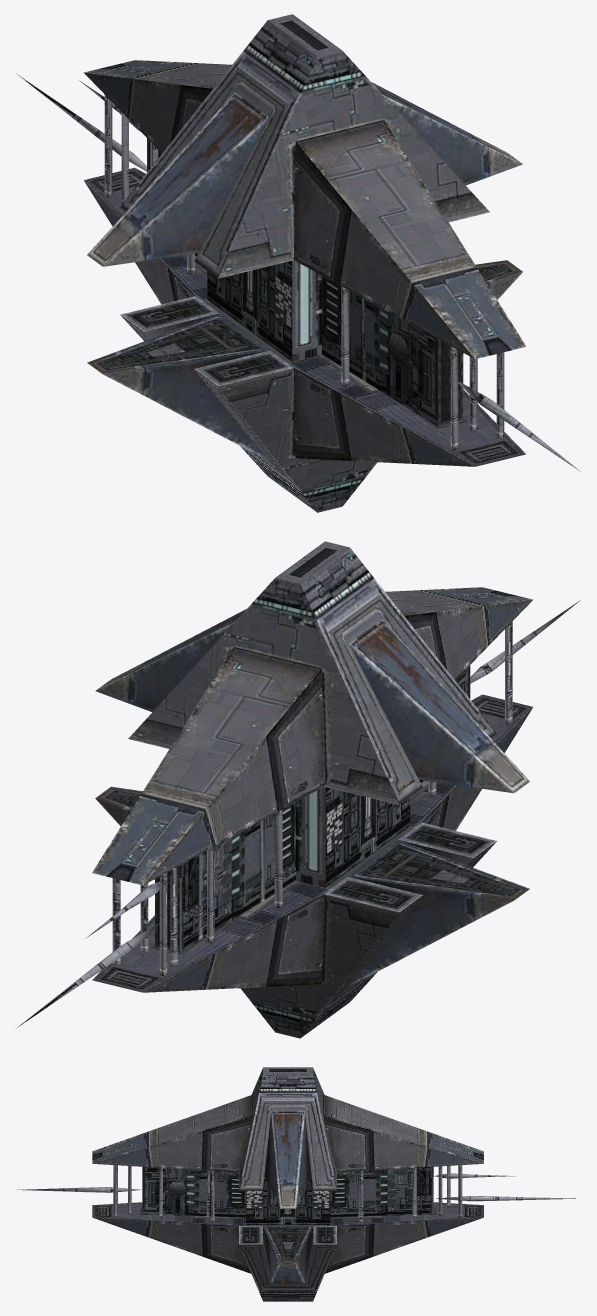
Rendered from spacestation_rsf_l4.fbx.
3 views of the same model, one above another, from view 1: azimuth 30°, elevation 25°; view 2: azimuth 150°, elevation 25°; view 3: azimuth 270°, elevation 25° (orthographic). The views are drawn at different scales.
Visible parts, largest first — view 1: mesh_node; view 2: mesh_node; view 3: mesh_node.
Part boxes in pixels (bbox=[...]): mesh_node: bbox=[16, 14, 580, 512]; mesh_node: bbox=[16, 541, 580, 1038]; mesh_node: bbox=[17, 1067, 576, 1301].
Size of the model in its own units: 133 by 138 by 312.
